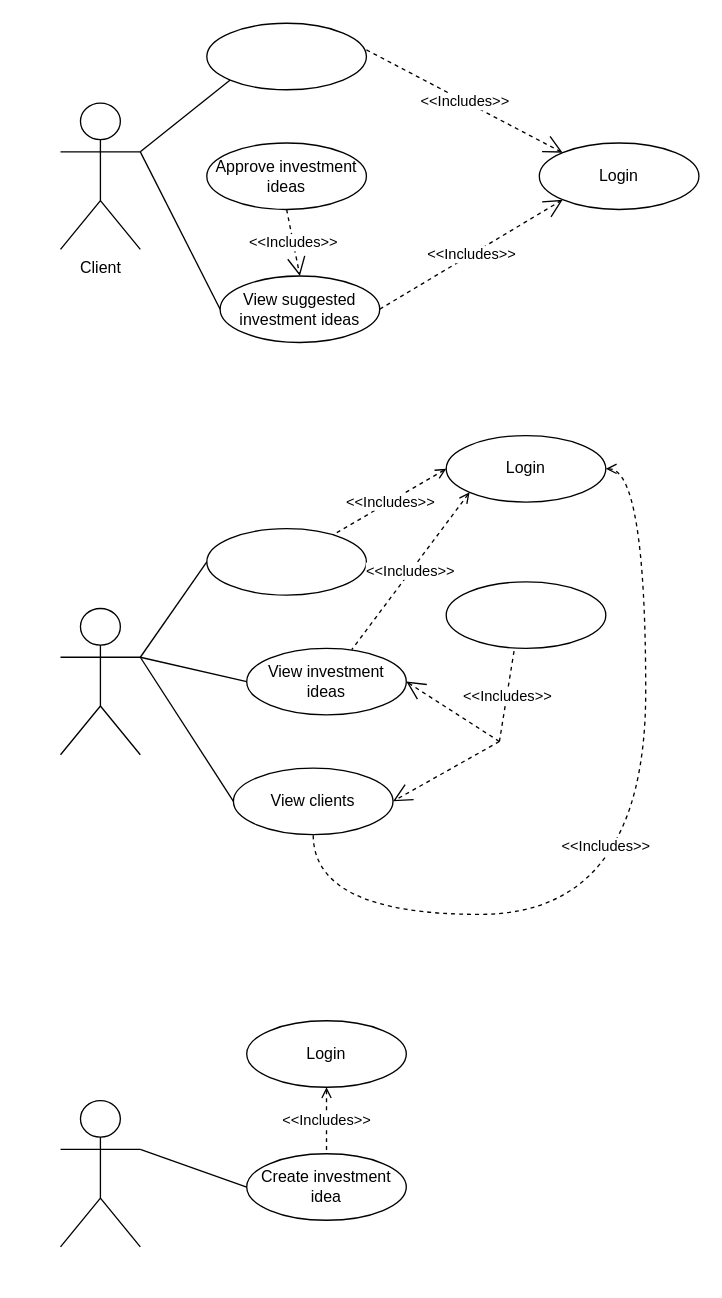
This 722x1298 diagram has some shape labels left out. The shapes that lost their labels are listed below. From the top down, each one's box as (x1, y1, x2, y2) in pixels, then its label:
(205, 22, 366, 90): Set account preferences
(205, 527, 366, 595): Create new account
(445, 581, 606, 648): Suggest investment idea to client
(59, 607, 140, 755): Relationship Manager
(59, 1099, 140, 1247): Fund Administrator
